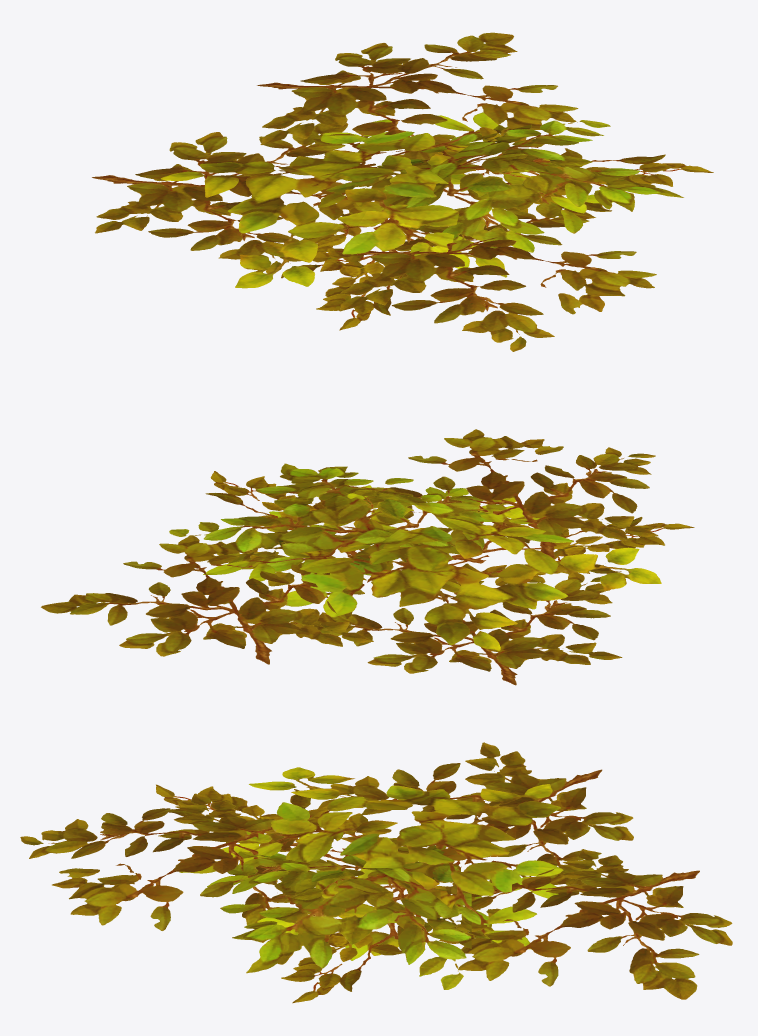
Rendered from Hangzhou_wj_029_1.FBX.
3 renders of one model, top to bottom at view 1: azimuth 30°, elevation 25°; view 2: azimuth 150°, elevation 25°; view 3: azimuth 270°, elevation 25°, orthographic. The views are drawn at different scales.
Parts seen in each view (by area): view 1: Object06axshuye; view 2: Object06axshuye; view 3: Object06axshuye.
Boxes of the visible parts, x1,y1,x2,y2 form: Object06axshuye: (92,32,713,351); Object06axshuye: (41,429,694,685); Object06axshuye: (20,742,732,1003).
Bounding box in the file's own units: 71.26 × 3.79 × 78.38.
Materials: 1 (1 with a texture image).
